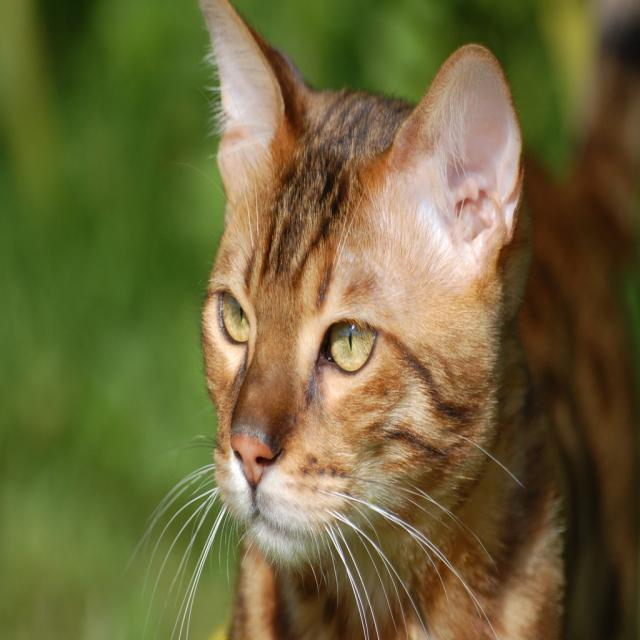Cat: (127, 0, 639, 638)
